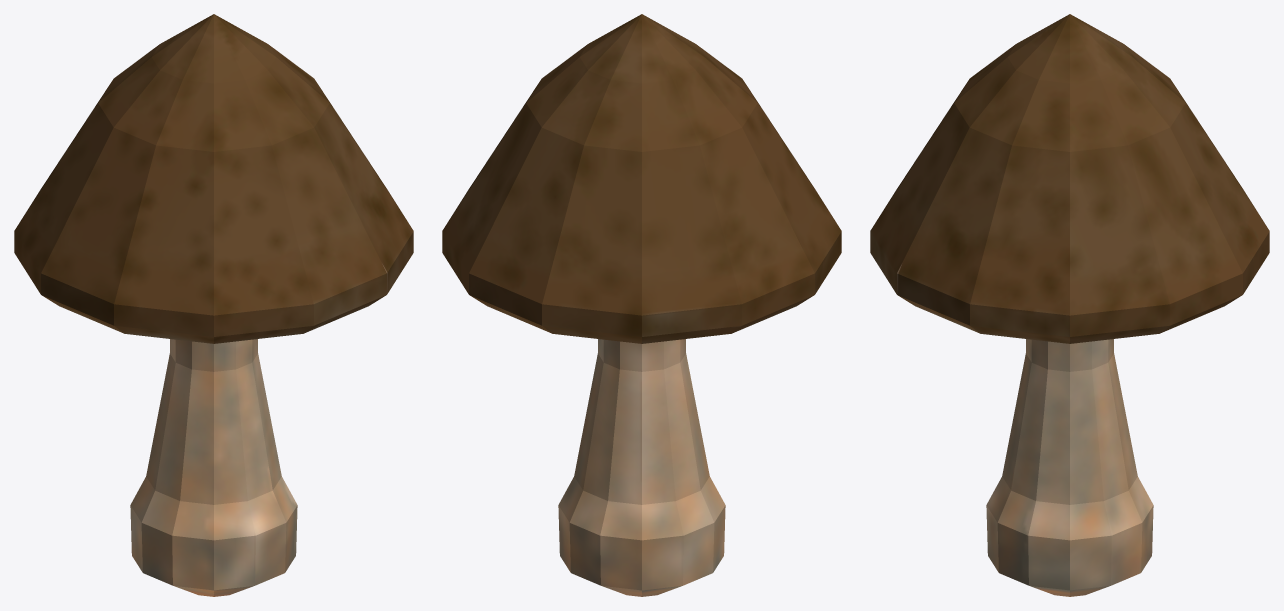
File: Mushroom_1.glb
3 views of the same model, side by side, from view 1: azimuth 30°, elevation 25°; view 2: azimuth 150°, elevation 25°; view 3: azimuth 270°, elevation 25° (orthographic).
Parts seen in each view (by area): view 1: Mushroom_1; view 2: Mushroom_1; view 3: Mushroom_1.
Boxes of the visible parts, box(x1,y1,x2,y2) form: Mushroom_1: box(14, 14, 413, 596); Mushroom_1: box(442, 14, 841, 596); Mushroom_1: box(870, 14, 1269, 596).
Bounding box in the file's own units: 0.3033 × 0.4773 × 0.3033.
1 material, 1 textured.
